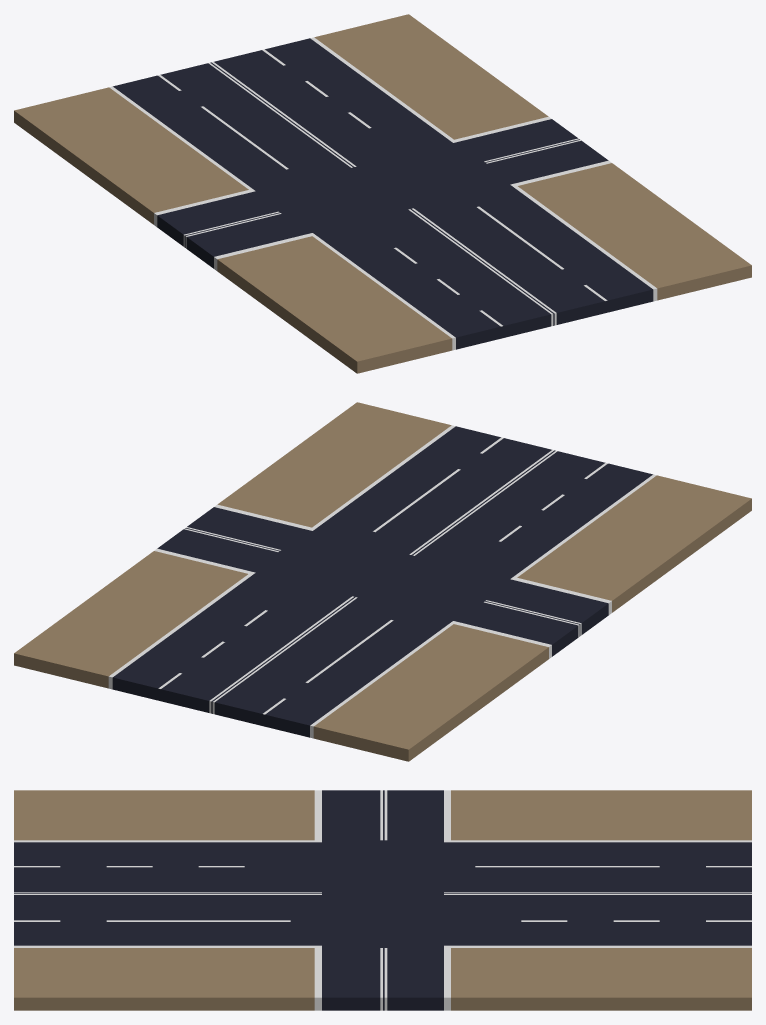
The model's file is CityRoadDuo001X.fbx.
The picture shows the model from 3 angles, top to bottom: view 1: azimuth 30°, elevation 25°; view 2: azimuth 150°, elevation 25°; view 3: azimuth 270°, elevation 25°; orthographic projection. The views are drawn at different scales.
Parts seen in each view (by area): view 1: Cube; view 2: Cube; view 3: Cube.
Part boxes in pixels (bbox=[...]): Cube: bbox=[14, 14, 751, 373]; Cube: bbox=[14, 402, 751, 761]; Cube: bbox=[14, 790, 751, 1010].
Size of the model in its own units: 401 by 11.74 by 603.
